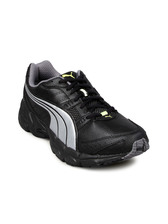shoes: (8, 56, 158, 173)
